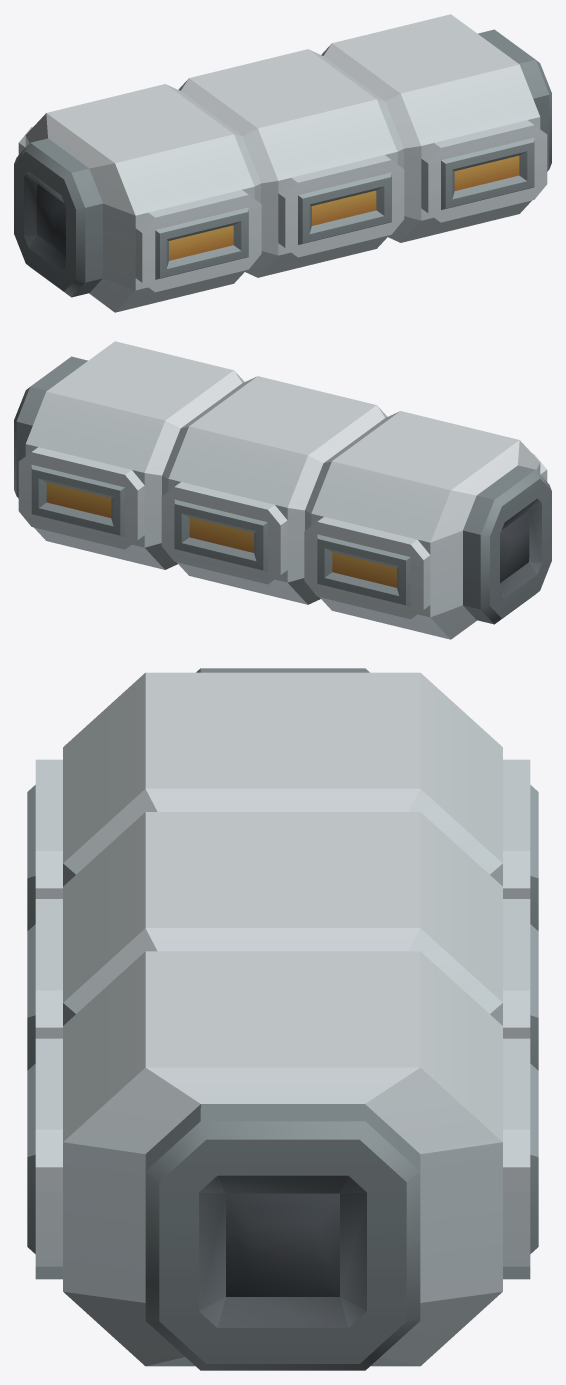
The model's file is kay-tunel.gltf.
3 views of the same model, one above another, from view 1: azimuth 30°, elevation 25°; view 2: azimuth 150°, elevation 25°; view 3: azimuth 270°, elevation 25° (orthographic). The views are drawn at different scales.
Parts seen in each view (by area): view 1: tunnel_straight_A; view 2: tunnel_straight_A; view 3: tunnel_straight_A.
Boxes of the visible parts, bbox=[...] form: tunnel_straight_A: bbox=[14, 14, 551, 312]; tunnel_straight_A: bbox=[14, 341, 551, 639]; tunnel_straight_A: bbox=[27, 668, 538, 1370].
Bounding box in the file's own units: 5.2 × 1.56 × 2.42.
1 material, 1 textured.
